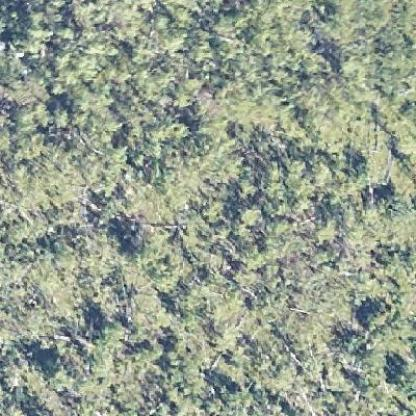tree-top: (358, 298, 388, 332), (385, 359, 414, 391), (46, 102, 70, 127)
